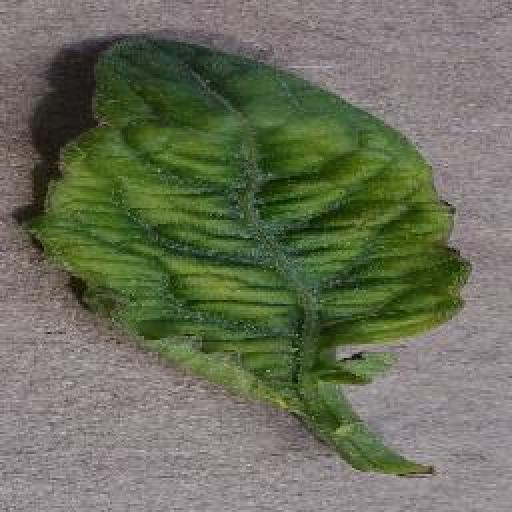disease_tomato: (39, 34, 471, 406)
